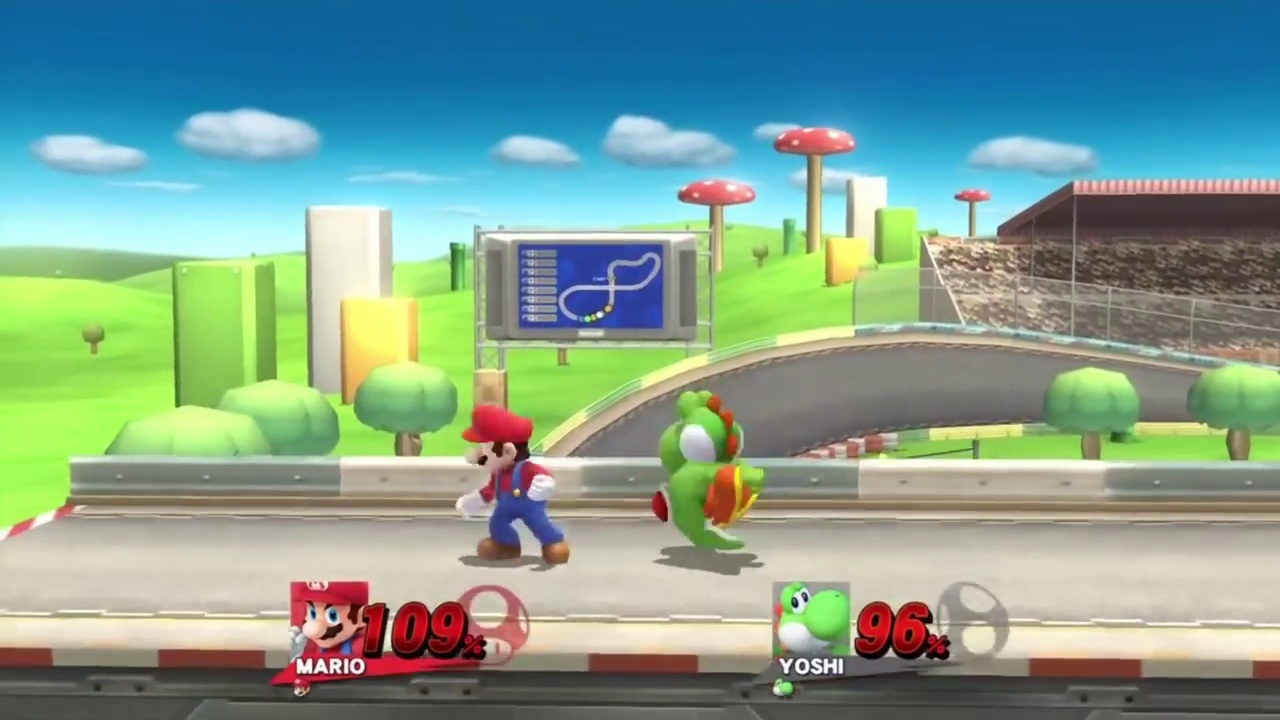Mario: (458, 404, 570, 568)
